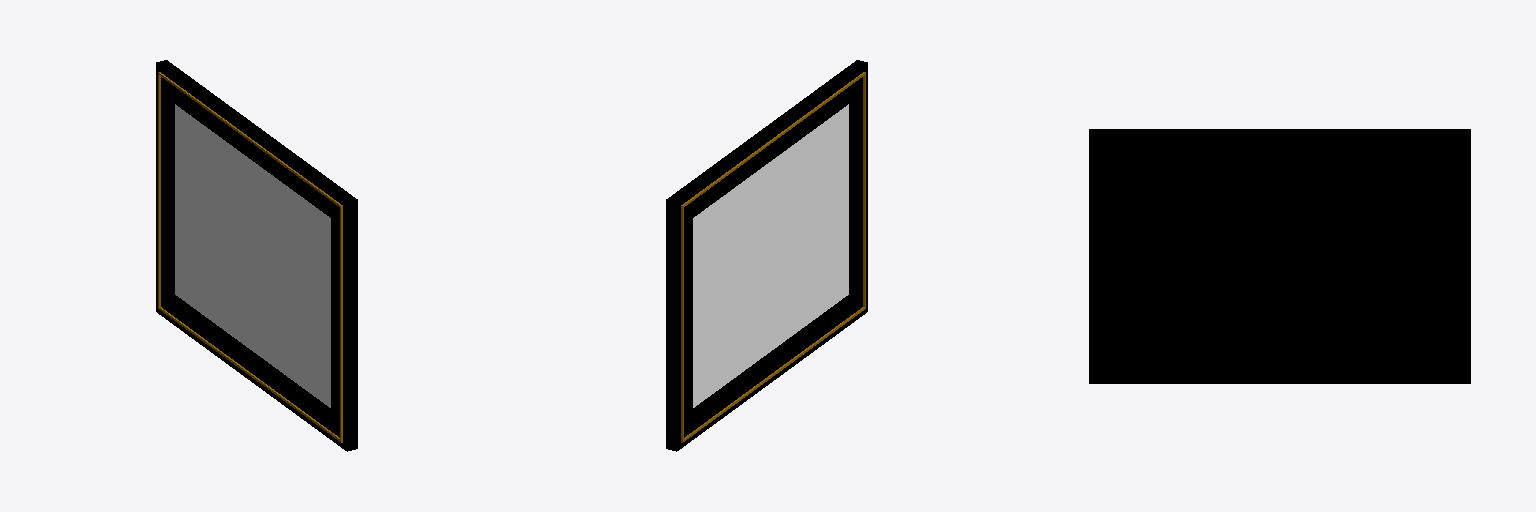
File: paintingframe1.obj
The picture shows the model from 3 angles: view 1: azimuth 30°, elevation 25°; view 2: azimuth 150°, elevation 25°; view 3: azimuth 270°, elevation 25°; orthographic projection.
Parts seen in each view (by area): view 1: paintingframe1_Mesh; view 2: paintingframe1_Mesh; view 3: paintingframe1_Mesh.
Part boxes in pixels (left/top/right/bottom): paintingframe1_Mesh: left=156, top=60, right=357, bottom=451; paintingframe1_Mesh: left=666, top=60, right=867, bottom=451; paintingframe1_Mesh: left=1089, top=129, right=1470, bottom=383.
Size of the model in its own units: 0.1105 by 2.1 by 2.92.